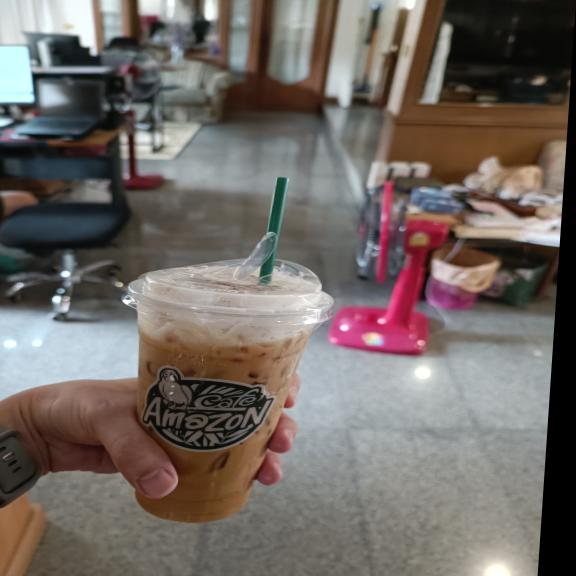Plastik: (123, 178, 333, 522)
